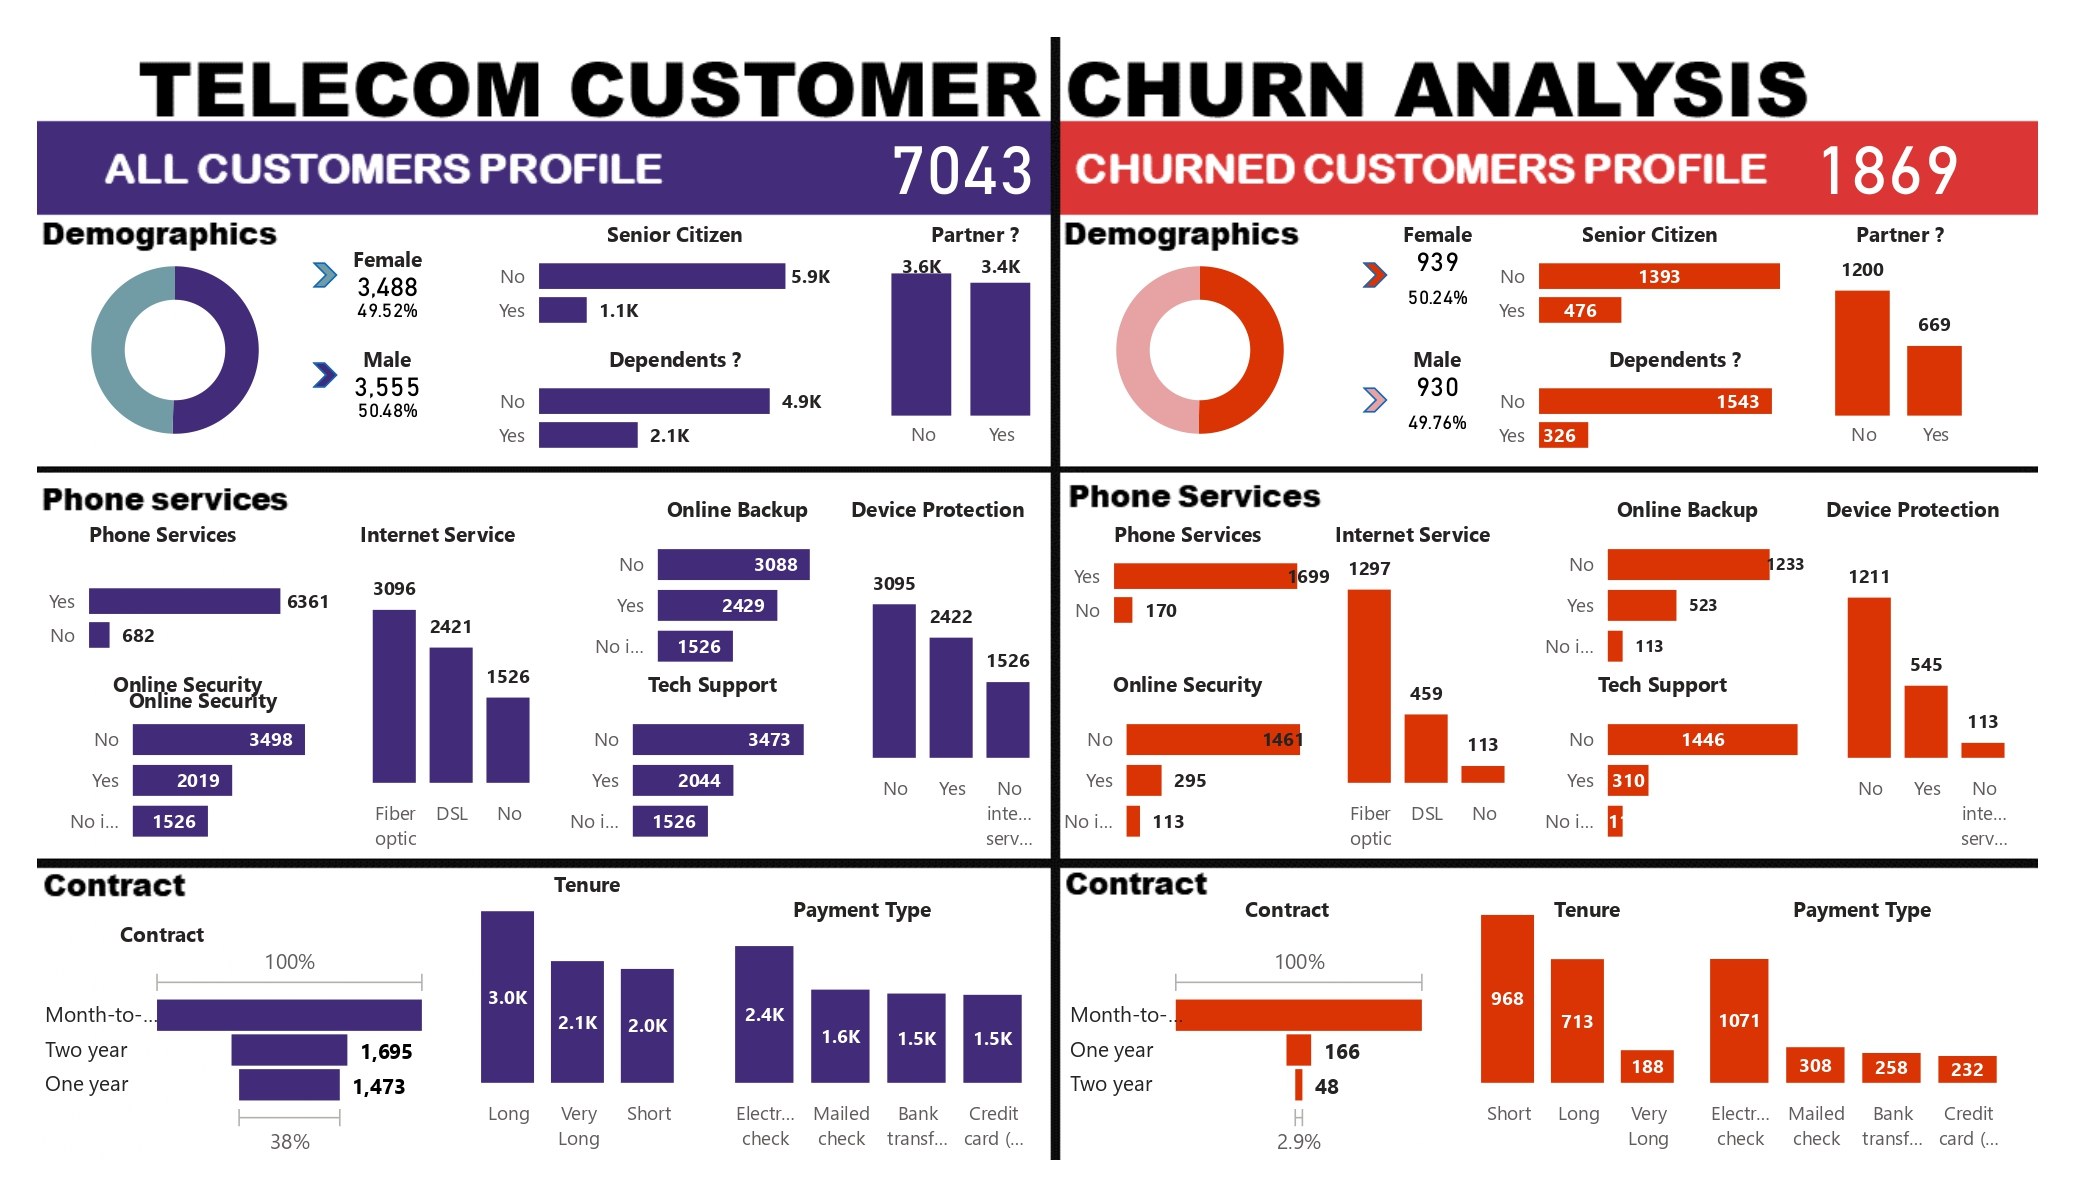

Layout of this report page (visuals, bound fields, positions):
{"tool":"powerbi","page":{"name":"Home","canvas":[1280,720],"ordinal":0},"visuals":[{"type":"card","fields":{"Values":["All Measures.Total No of Customers"]},"box":[512,48,160,64],"z":0},{"type":"card","fields":{"Values":["All Measures.Total Churned Customers"]},"box":[1088,32,192,96],"z":1000},{"type":"donutChart","fields":{"Category":["Telco Churn Data.gender"],"Y":["CountNonNull(Telco Churn Data.gender)"]},"box":[0,128,176,144],"z":2000},{"type":"card","fields":{"Values":["All Measures.Females Cus"]},"box":[192,128,64,64],"z":3000},{"type":"textbox","box":[128,128,192,32],"z":4000},{"type":"textbox","box":[144,192,160,64],"z":5000},{"type":"card","fields":{"Values":["All Measures.Males Cus"]},"box":[192,192,64,64],"z":6000},{"type":"shape","box":[176,144,16,16],"z":7000},{"type":"shape","box":[176,208,16,16],"z":8000},{"type":"card","fields":{"Values":["All Measures.% Female Cus"]},"box":[192,144,64,64],"z":9000},{"type":"card","fields":{"Values":["All Measures.% Male Cus"]},"box":[192,208,64,64],"z":10000},{"type":"clusteredBarChart","fields":{"Category":["Telco Churn Data.SeniorCitizen"],"Y":["CountNonNull(Telco Churn Data.SeniorCitizen)"]},"box":[288,112,224,96],"z":11000},{"type":"clusteredBarChart","fields":{"Category":["Telco Churn Data.Dependents"],"Y":["CountNonNull(Telco Churn Data.Dependents)"]},"box":[288,192,224,96],"z":12000},{"type":"textbox","box":[336,112,144,48],"z":13000},{"type":"textbox","box":[336,192,144,64],"z":14000},{"type":"columnChart","fields":{"Category":["Telco Churn Data.Partner"],"Y":["CountNonNull(Telco Churn Data.Partner)"]},"box":[496,128,192,144],"z":15000},{"type":"textbox","box":[528,112,144,32],"z":16000},{"type":"donutChart","fields":{"Category":["Telco Churn Data.gender"],"Y":["All Measures.Total Churned Customers"]},"box":[656,128,176,144],"z":17000},{"type":"shape","box":[848,144,16,16],"z":18000},{"type":"shape","box":[848,224,16,16],"z":19000},{"type":"textbox","box":[800,112,192,32],"z":20000},{"type":"textbox","box":[816,192,160,64],"z":21000},{"type":"card","fields":{"Values":["All Measures.% Churned Females"]},"box":[864,144,64,48],"z":22000},{"type":"card","fields":{"Values":["All Measures.% Churned Males"]},"box":[864,224,64,48],"z":23000},{"type":"card","fields":{"Values":["All Measures.Churned Feales"]},"box":[864,112,64,64],"z":24000},{"type":"card","fields":{"Values":["All Measures.Churned Males"]},"box":[864,192,64,64],"z":25000},{"type":"clusteredBarChart","fields":{"Category":["Telco Churn Data.SeniorCitizen"],"Y":["All Measures.Total Churned Customers"]},"box":[928,112,224,96],"z":26000},{"type":"textbox","box":[960,112,144,48],"z":27000},{"type":"textbox","box":[976,192,144,64],"z":28000},{"type":"clusteredBarChart","fields":{"Category":["Telco Churn Data.Dependents"],"Y":["All Measures.Total Churned Customers"]},"box":[928,192,224,96],"z":29000},{"type":"textbox","box":[1120,112,144,32],"z":30000},{"type":"columnChart","fields":{"Category":["Telco Churn Data.Partner"],"Y":["All Measures.Total Churned Customers"]},"box":[1104,128,176,144],"z":31000},{"type":"barChart","fields":{"Category":["Telco Churn Data.PhoneService"],"Y":["CountNonNull(Telco Churn Data.PhoneService)"]},"box":[0,320,192,96],"z":32000},{"type":"textbox","box":[0,304,160,32],"z":33000},{"type":"barChart","fields":{"Category":["Telco Churn Data.OnlineSecurity"],"Y":["CountNonNull(Telco Churn Data.OnlineSecurity)"]},"box":[0,416,192,112],"z":34000},{"type":"textbox","box":[16,400,160,32],"z":35000},{"type":"columnChart","fields":{"Category":["Telco Churn Data.InternetService"],"Y":["CountNonNull(Telco Churn Data.InternetService)"]},"box":[192,320,144,208],"z":36000},{"type":"textbox","box":[176,304,160,32],"z":37000},{"type":"barChart","fields":{"Category":["Telco Churn Data.OnlineBackup"],"Y":["CountNonNull(Telco Churn Data.OnlineBackup)"]},"box":[336,304,192,112],"z":38000},{"type":"textbox","box":[368,288,160,32],"z":39000},{"type":"barChart","fields":{"Category":["Telco Churn Data.TechSupport"],"Y":["CountNonNull(Telco Churn Data.TechSupport)"]},"box":[320,416,192,112],"z":40000},{"type":"columnChart","fields":{"Category":["Telco Churn Data.DeviceProtection"],"Y":["CountNonNull(Telco Churn Data.DeviceProtection)"]},"box":[512,320,144,208],"z":41000},{"type":"textbox","box":[352,400,160,32],"z":42000},{"type":"textbox","box":[496,288,160,32],"z":43000},{"type":"barChart","fields":{"Category":["Telco Churn Data.PhoneService"],"Y":["All Measures.Total Churned Customers"]},"box":[656,304,176,96],"z":44000},{"type":"textbox","box":[656,304,160,32],"z":45000},{"type":"barChart","fields":{"Category":["Telco Churn Data.OnlineSecurity"],"Y":["All Measures.Total Churned Customers"]},"box":[640,416,176,112],"z":46000},{"type":"textbox","box":[656,400,160,32],"z":47000},{"type":"columnChart","fields":{"Category":["Telco Churn Data.InternetService"],"Y":["All Measures.Total Churned Customers"]},"box":[816,320,144,208],"z":48000},{"type":"textbox","box":[800,304,160,32],"z":49000},{"type":"barChart","fields":{"Category":["Telco Churn Data.OnlineBackup"],"Y":["All Measures.Total Churned Customers"]},"box":[944,304,192,112],"z":50000},{"type":"barChart","fields":{"Category":["Telco Churn Data.TechSupport"],"Y":["All Measures.Total Churned Customers"]},"box":[944,416,192,112],"z":51000},{"type":"columnChart","fields":{"Category":["Telco Churn Data.DeviceProtection"],"Y":["All Measures.Total Churned Customers"]},"box":[1136,320,144,208],"z":52000},{"type":"textbox","box":[1120,288,160,32],"z":53000},{"type":"textbox","box":[976,288,160,32],"z":54000},{"type":"textbox","box":[960,400,160,32],"z":55000},{"type":"funnel","fields":{"Category":["Telco Churn Data.Contract"],"Y":["CountNonNull(Telco Churn Data.Contract)"]},"box":[0,576,256,144],"z":56000},{"type":"textbox","box":[0,560,160,32],"z":57000},{"type":"textbox","box":[26,410,160,32],"z":58000},{"type":"columnChart","fields":{"Category":["Telco Churn Data.Tenure Category"],"Y":["CountNonNull(Telco Churn Data.Tenure Category)"]},"box":[256,544,176,176],"z":59000},{"type":"textbox","box":[272,528,160,32],"z":60000},{"type":"columnChart","fields":{"Category":["Telco Churn Data.PaymentMethod"],"Y":["CountNonNull(Telco Churn Data.PaymentMethod)"]},"box":[416,544,240,176],"z":61000},{"type":"textbox","box":[448,544,160,32],"z":62000},{"type":"funnel","fields":{"Category":["Telco Churn Data.Contract"],"Y":["All Measures.Total Churned Customers"]},"box":[656,576,240,144],"z":63000},{"type":"columnChart","fields":{"Category":["Telco Churn Data.Tenure Category"],"Y":["All Measures.Total Churned Customers"]},"box":[896,544,176,176],"z":64000},{"type":"columnChart","fields":{"Category":["Telco Churn Data.PaymentMethod"],"Y":["All Measures.Total Churned Customers"]},"box":[1040,544,240,176],"z":65000},{"type":"textbox","box":[1088,544,160,32],"z":66000},{"type":"textbox","box":[912,544,160,32],"z":67000},{"type":"textbox","box":[720,544,160,32],"z":68000}]}

Visuals, with their boxes on the page's 1280x720 design canvas (x1, y1, x2, y2). These are canvas units, not pixel positions in the 2075x1200 screenshot, which may show the page scaled, cropped or inside an application window:
card - All Measures.Total No of Customers: select_region(512, 48, 672, 112)
card - All Measures.Total Churned Customers: select_region(1088, 32, 1280, 128)
donutChart - Telco Churn Data.gender x CountNonNull(Telco Churn Data.gender): select_region(0, 128, 176, 272)
card - All Measures.Females Cus: select_region(192, 128, 256, 192)
textbox: select_region(128, 128, 320, 160)
textbox: select_region(144, 192, 304, 256)
card - All Measures.Males Cus: select_region(192, 192, 256, 256)
shape: select_region(176, 144, 192, 160)
shape: select_region(176, 208, 192, 224)
card - All Measures.% Female Cus: select_region(192, 144, 256, 208)
card - All Measures.% Male Cus: select_region(192, 208, 256, 272)
clusteredBarChart - Telco Churn Data.SeniorCitizen x CountNonNull(Telco Churn Data.SeniorCitizen): select_region(288, 112, 512, 208)
clusteredBarChart - Telco Churn Data.Dependents x CountNonNull(Telco Churn Data.Dependents): select_region(288, 192, 512, 288)
textbox: select_region(336, 112, 480, 160)
textbox: select_region(336, 192, 480, 256)
columnChart - Telco Churn Data.Partner x CountNonNull(Telco Churn Data.Partner): select_region(496, 128, 688, 272)
textbox: select_region(528, 112, 672, 144)
donutChart - Telco Churn Data.gender x All Measures.Total Churned Customers: select_region(656, 128, 832, 272)
shape: select_region(848, 144, 864, 160)
shape: select_region(848, 224, 864, 240)
textbox: select_region(800, 112, 992, 144)
textbox: select_region(816, 192, 976, 256)
card - All Measures.% Churned Females: select_region(864, 144, 928, 192)
card - All Measures.% Churned Males: select_region(864, 224, 928, 272)
card - All Measures.Churned Feales: select_region(864, 112, 928, 176)
card - All Measures.Churned Males: select_region(864, 192, 928, 256)
clusteredBarChart - Telco Churn Data.SeniorCitizen x All Measures.Total Churned Customers: select_region(928, 112, 1152, 208)
textbox: select_region(960, 112, 1104, 160)
textbox: select_region(976, 192, 1120, 256)
clusteredBarChart - Telco Churn Data.Dependents x All Measures.Total Churned Customers: select_region(928, 192, 1152, 288)
textbox: select_region(1120, 112, 1264, 144)
columnChart - Telco Churn Data.Partner x All Measures.Total Churned Customers: select_region(1104, 128, 1280, 272)
barChart - Telco Churn Data.PhoneService x CountNonNull(Telco Churn Data.PhoneService): select_region(0, 320, 192, 416)
textbox: select_region(0, 304, 160, 336)
barChart - Telco Churn Data.OnlineSecurity x CountNonNull(Telco Churn Data.OnlineSecurity): select_region(0, 416, 192, 528)
textbox: select_region(16, 400, 176, 432)
columnChart - Telco Churn Data.InternetService x CountNonNull(Telco Churn Data.InternetService): select_region(192, 320, 336, 528)
textbox: select_region(176, 304, 336, 336)
barChart - Telco Churn Data.OnlineBackup x CountNonNull(Telco Churn Data.OnlineBackup): select_region(336, 304, 528, 416)
textbox: select_region(368, 288, 528, 320)
barChart - Telco Churn Data.TechSupport x CountNonNull(Telco Churn Data.TechSupport): select_region(320, 416, 512, 528)
columnChart - Telco Churn Data.DeviceProtection x CountNonNull(Telco Churn Data.DeviceProtection): select_region(512, 320, 656, 528)
textbox: select_region(352, 400, 512, 432)
textbox: select_region(496, 288, 656, 320)
barChart - Telco Churn Data.PhoneService x All Measures.Total Churned Customers: select_region(656, 304, 832, 400)
textbox: select_region(656, 304, 816, 336)
barChart - Telco Churn Data.OnlineSecurity x All Measures.Total Churned Customers: select_region(640, 416, 816, 528)
textbox: select_region(656, 400, 816, 432)
columnChart - Telco Churn Data.InternetService x All Measures.Total Churned Customers: select_region(816, 320, 960, 528)
textbox: select_region(800, 304, 960, 336)
barChart - Telco Churn Data.OnlineBackup x All Measures.Total Churned Customers: select_region(944, 304, 1136, 416)
barChart - Telco Churn Data.TechSupport x All Measures.Total Churned Customers: select_region(944, 416, 1136, 528)
columnChart - Telco Churn Data.DeviceProtection x All Measures.Total Churned Customers: select_region(1136, 320, 1280, 528)
textbox: select_region(1120, 288, 1280, 320)
textbox: select_region(976, 288, 1136, 320)
textbox: select_region(960, 400, 1120, 432)
funnel - Telco Churn Data.Contract x CountNonNull(Telco Churn Data.Contract): select_region(0, 576, 256, 720)
textbox: select_region(0, 560, 160, 592)
textbox: select_region(26, 410, 186, 442)
columnChart - Telco Churn Data.Tenure Category x CountNonNull(Telco Churn Data.Tenure Category): select_region(256, 544, 432, 720)
textbox: select_region(272, 528, 432, 560)
columnChart - Telco Churn Data.PaymentMethod x CountNonNull(Telco Churn Data.PaymentMethod): select_region(416, 544, 656, 720)
textbox: select_region(448, 544, 608, 576)
funnel - Telco Churn Data.Contract x All Measures.Total Churned Customers: select_region(656, 576, 896, 720)
columnChart - Telco Churn Data.Tenure Category x All Measures.Total Churned Customers: select_region(896, 544, 1072, 720)
columnChart - Telco Churn Data.PaymentMethod x All Measures.Total Churned Customers: select_region(1040, 544, 1280, 720)
textbox: select_region(1088, 544, 1248, 576)
textbox: select_region(912, 544, 1072, 576)
textbox: select_region(720, 544, 880, 576)
